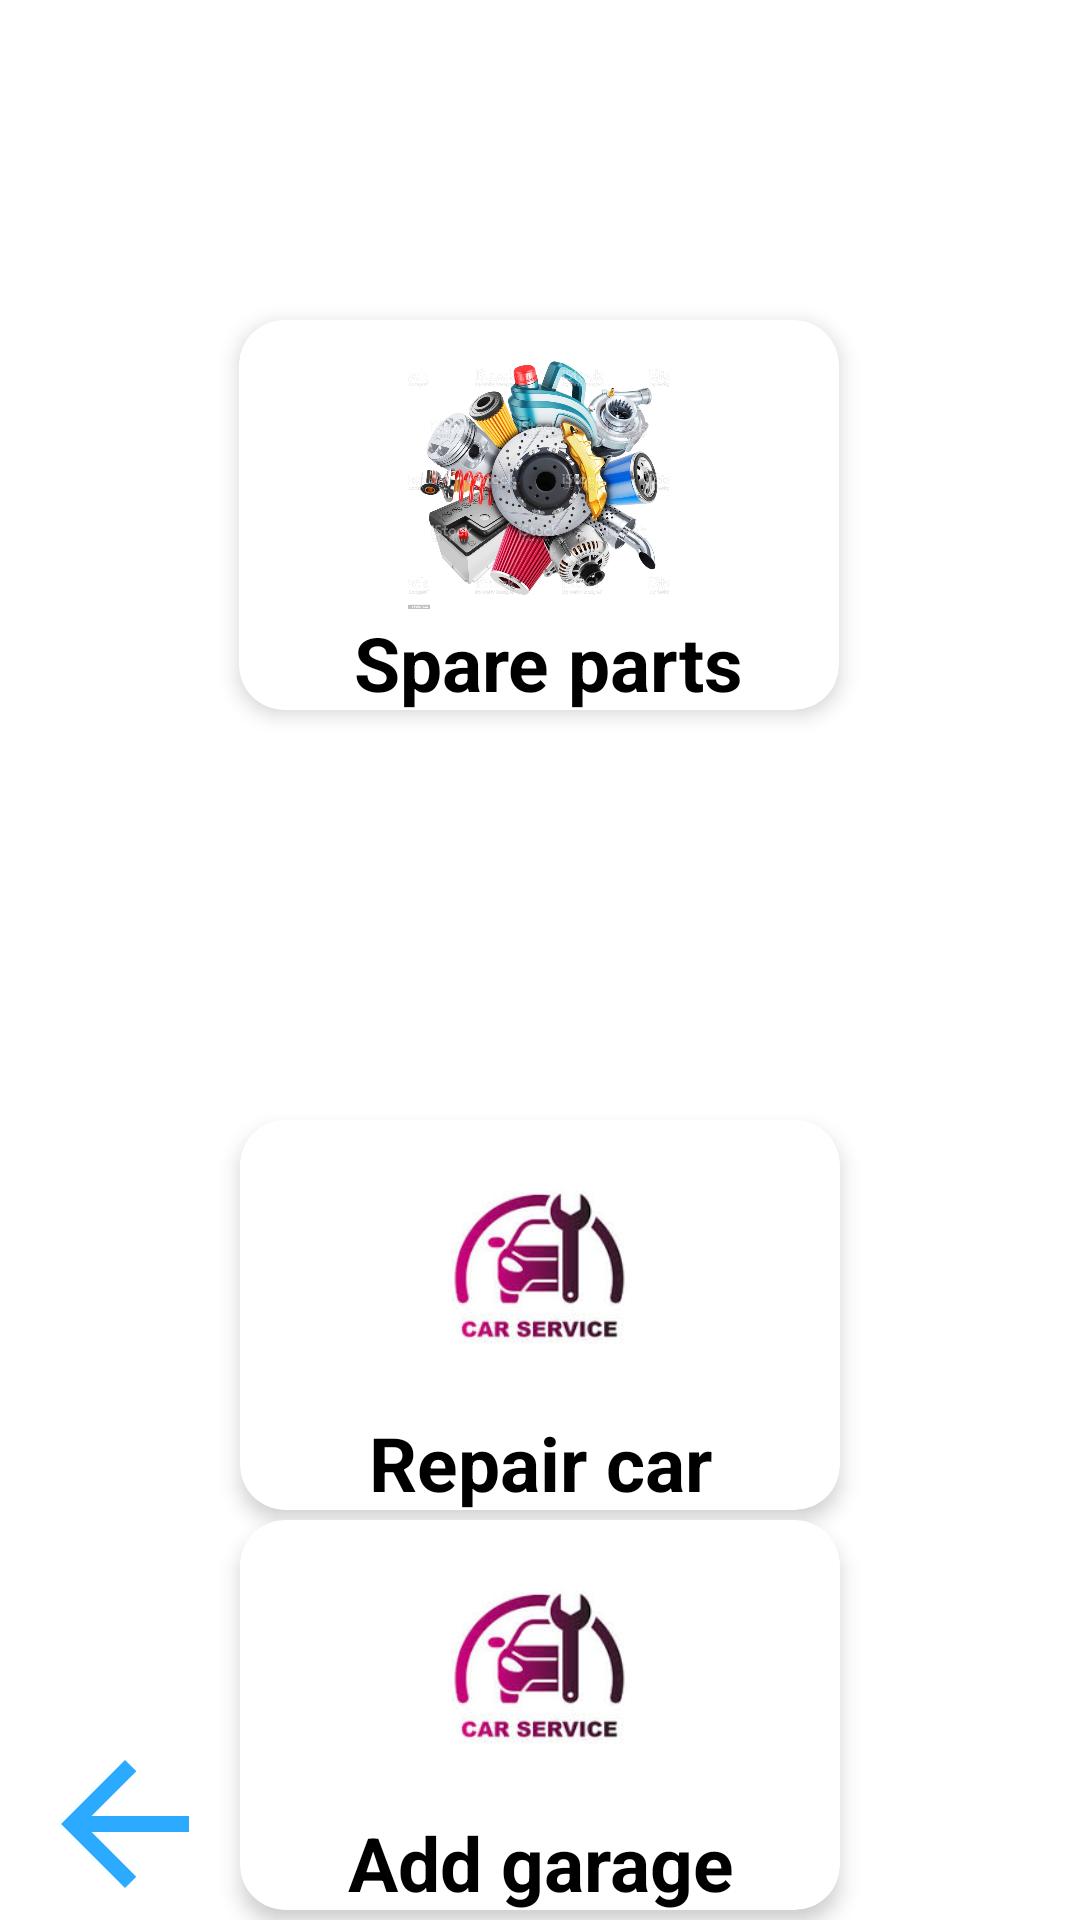

Screen size 1080px x 1920px. Icon name, then its box in pixels as bbox(x1, y1, x2, y2):
backbutton: bbox(61, 1760, 189, 1888)
